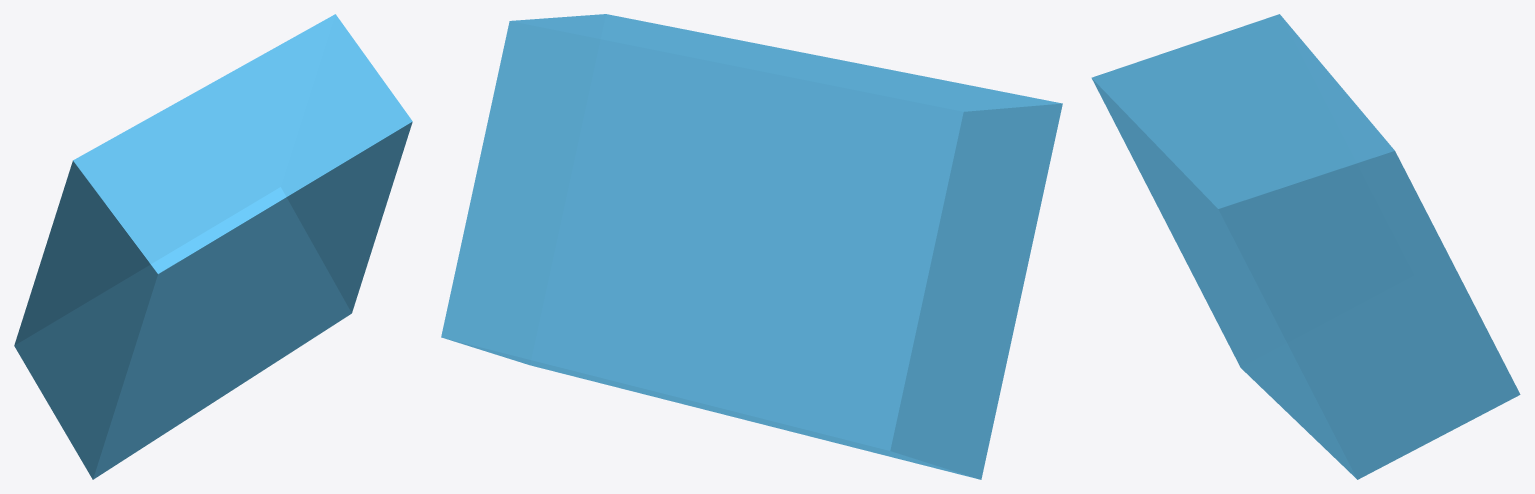
The model's file is Event_421115418_HErechit_11.fbx.
3 renders of one model, left to right at view 1: azimuth 30°, elevation 25°; view 2: azimuth 150°, elevation 25°; view 3: azimuth 270°, elevation 25°, orthographic. The views are drawn at different scales.
Visible parts, largest first — view 1: Model; view 2: Model; view 3: Model.
Part boxes in pixels (x1,y1,x2,y2): Model: [14, 14, 412, 479]; Model: [441, 14, 1062, 479]; Model: [1091, 14, 1520, 479].
Size of the model in its own units: 0.7326 by 0.7626 by 0.7599.
